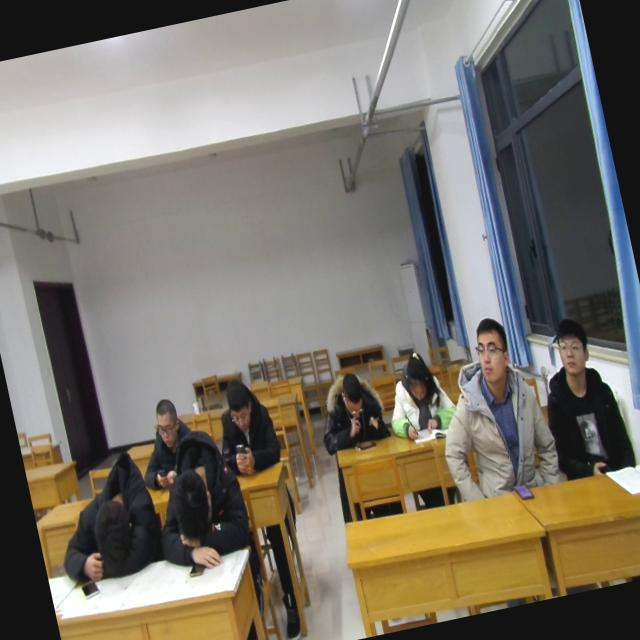bow: (141, 430, 260, 581), (44, 452, 160, 584)
down: (218, 371, 258, 436), (148, 391, 186, 452), (396, 349, 435, 406), (334, 364, 369, 418)
lookup: (468, 313, 518, 390), (548, 310, 598, 384)
sit: (419, 306, 564, 504), (531, 310, 636, 480), (208, 372, 288, 482), (308, 357, 394, 455), (379, 350, 458, 446), (130, 391, 206, 488)
